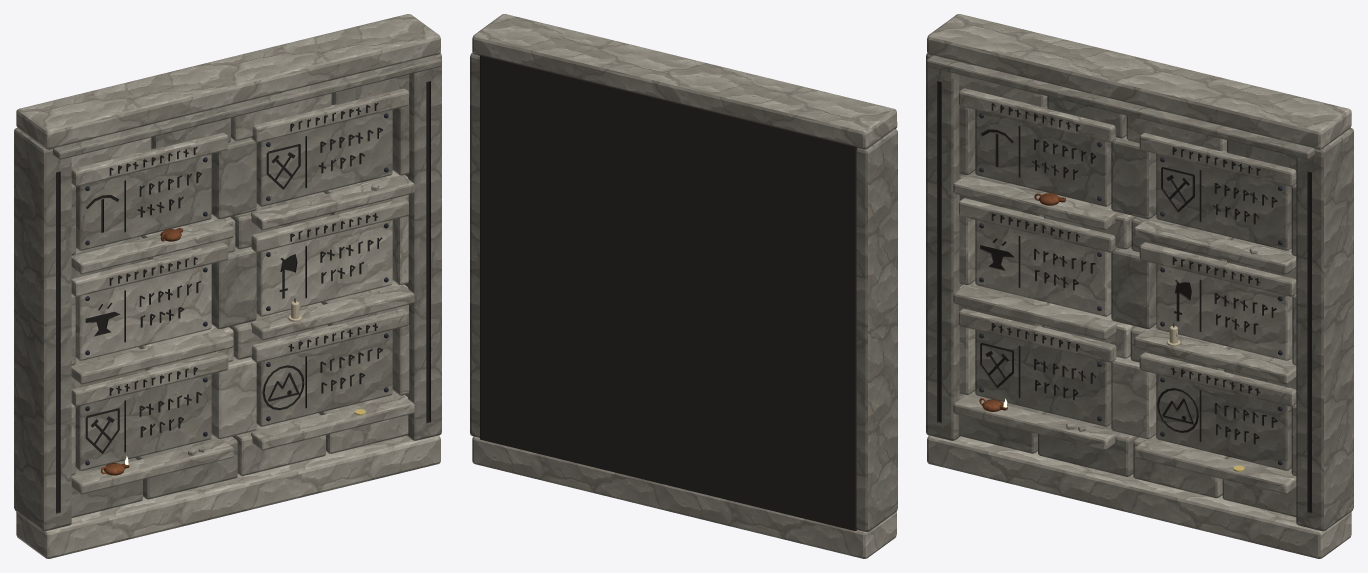
The model's file is qb_loculus_wall.glb.
3 renders of one model, left to right at view 1: azimuth 30°, elevation 25°; view 2: azimuth 150°, elevation 25°; view 3: azimuth 330°, elevation 25°, orthographic.
Parts seen in each view (by area): view 1: model; view 2: model; view 3: model.
Boxes of the visible parts, x1,y1,x2,y2 form: model: (14, 14, 441, 558); model: (470, 14, 897, 558); model: (926, 14, 1353, 558).
Size of the model in its own units: 1.9 by 1.95 by 0.32.
11 materials, 5 textured.
